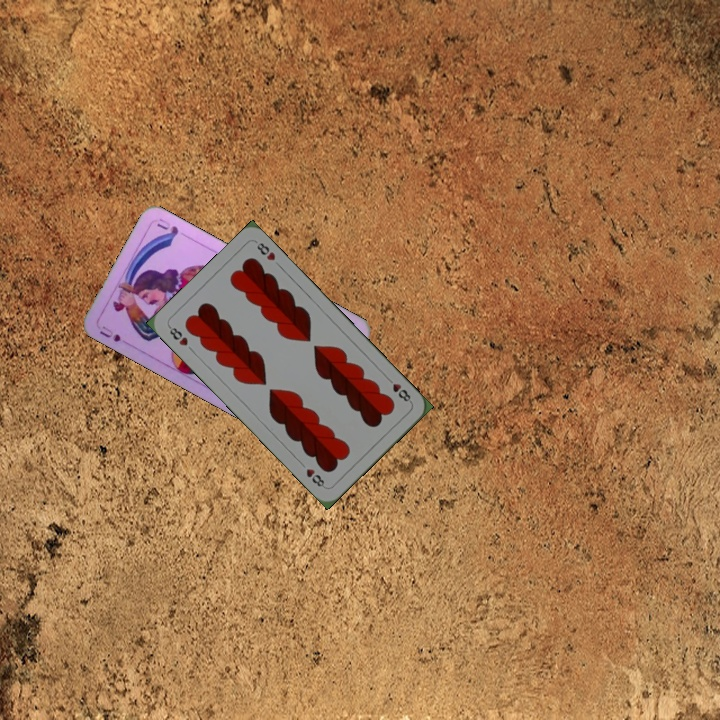H8: (382, 373, 414, 406), (164, 322, 190, 348)
SU: (96, 321, 133, 347)
